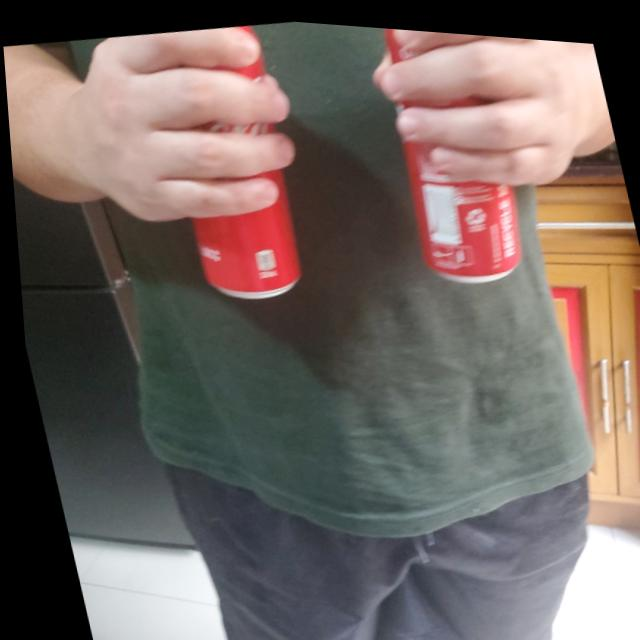coke: (143, 15, 317, 312), (368, 21, 525, 286)
